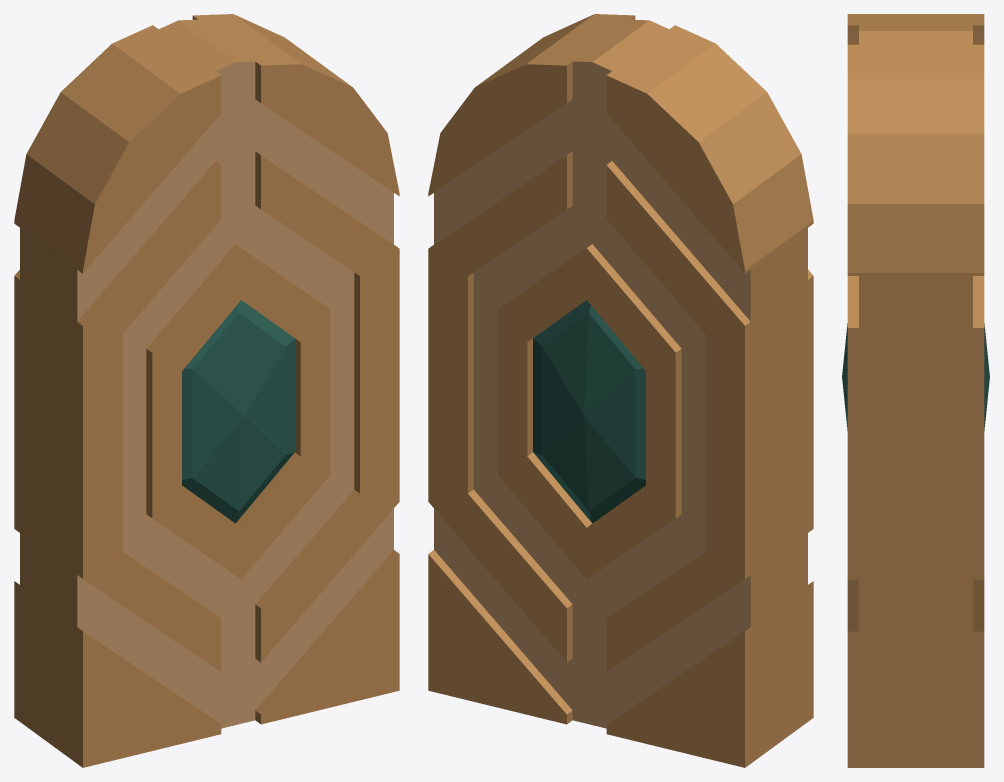
Rendered from Wall_Straight_Door.fbx.
3 renders of one model, left to right at view 1: azimuth 30°, elevation 25°; view 2: azimuth 150°, elevation 25°; view 3: azimuth 270°, elevation 25°, orthographic.
Parts seen in each view (by area): view 1: Sandstone_6.Sandstone_6.Sandstone_6.Sandstone_6.object2, Sandstone_5.Sandstone_5, object1; view 2: Sandstone_6.Sandstone_6.Sandstone_6.Sandstone_6.object2, Sandstone_5.Sandstone_5, object1; view 3: Sandstone_6.Sandstone_6.Sandstone_6.Sandstone_6.object2, object1.
Boxes of the visible parts, bbox=[...] form: Sandstone_6.Sandstone_6.Sandstone_6.Sandstone_6.object2: bbox=[14, 14, 399, 767]; Sandstone_5.Sandstone_5: bbox=[77, 61, 393, 728]; object1: bbox=[182, 300, 294, 523]; Sandstone_6.Sandstone_6.Sandstone_6.Sandstone_6.object2: bbox=[428, 14, 813, 767]; Sandstone_5.Sandstone_5: bbox=[434, 61, 750, 728]; object1: bbox=[533, 300, 645, 523]; Sandstone_6.Sandstone_6.Sandstone_6.Sandstone_6.object2: bbox=[847, 14, 984, 767]; object1: bbox=[842, 323, 989, 430].
Size of the model in its own units: 0.8 by 1.6 by 0.325.
